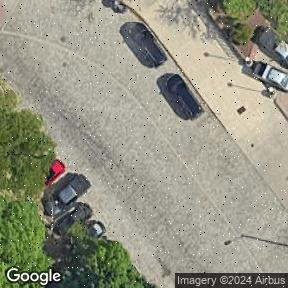vegetation: (0, 78, 55, 288), (60, 221, 157, 288)
